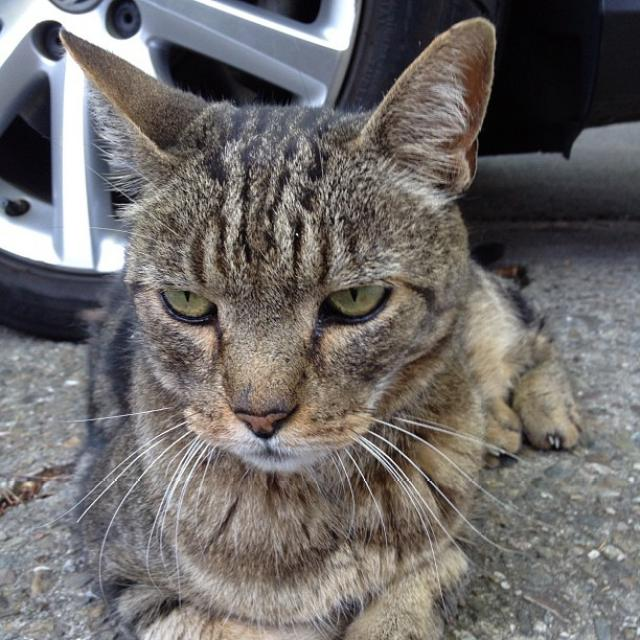cats: (52, 16, 587, 640)
